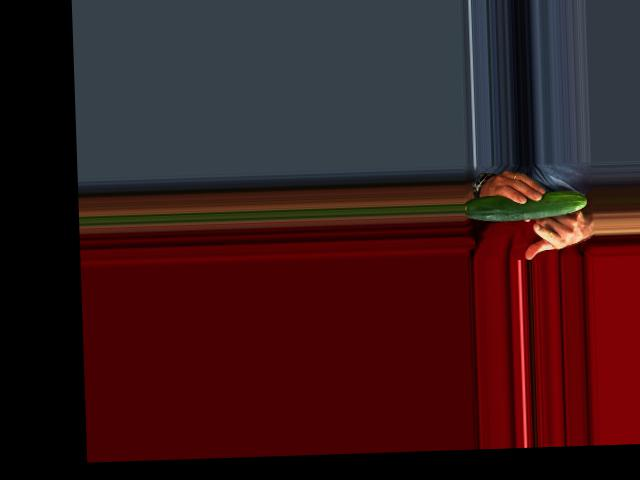cucumber: (463, 189, 587, 222)
